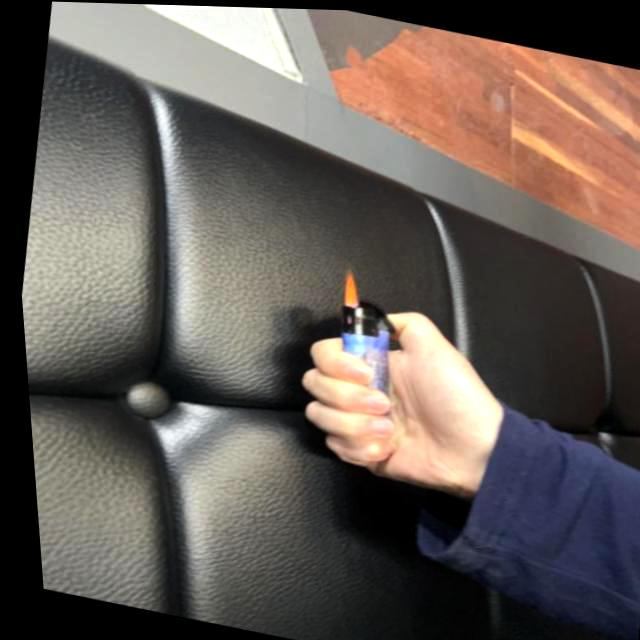fire: (333, 264, 363, 308)
